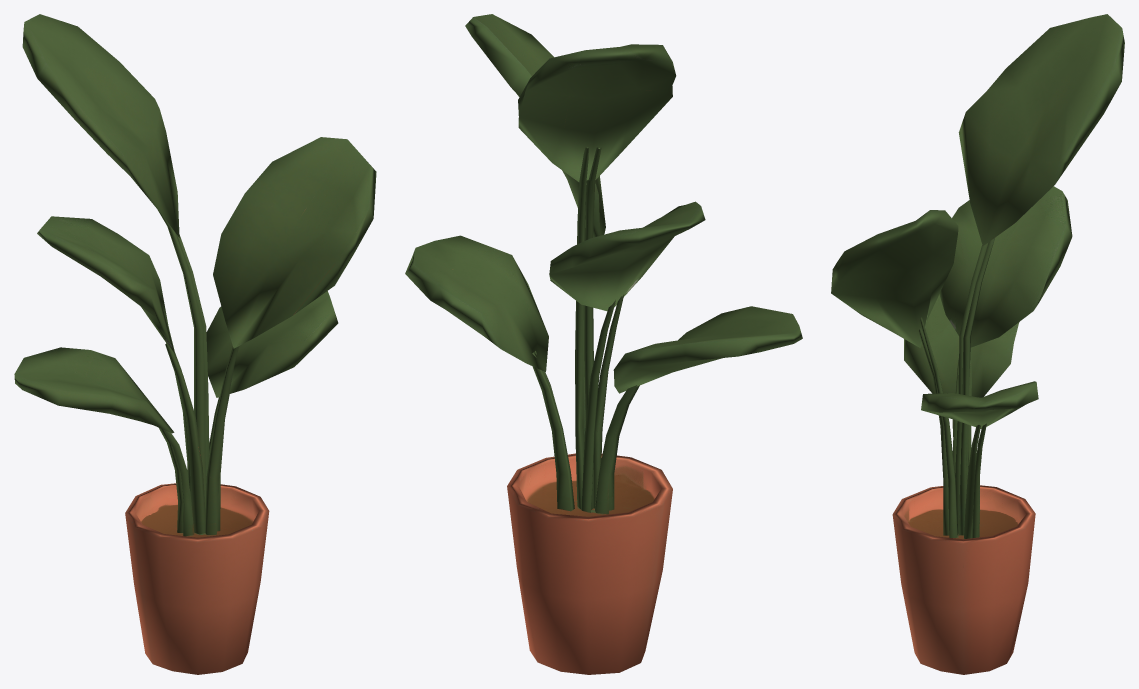
The model's file is plant.glb.
3 renders of one model, left to right at view 1: azimuth 30°, elevation 25°; view 2: azimuth 150°, elevation 25°; view 3: azimuth 270°, elevation 25°, orthographic. The views are drawn at different scales.
Bounding box in the file's own units: 0.5342 × 0.9526 × 0.4292.
1 material, 1 textured.
